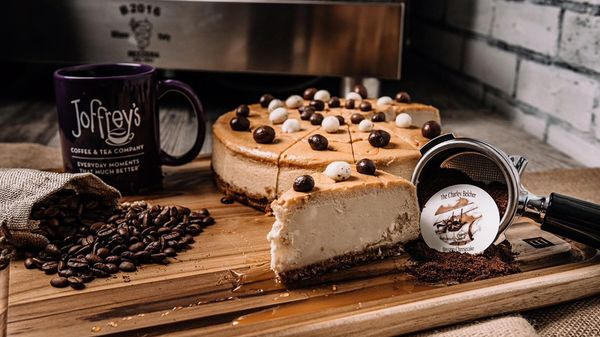pizza: (54, 62, 207, 195)
